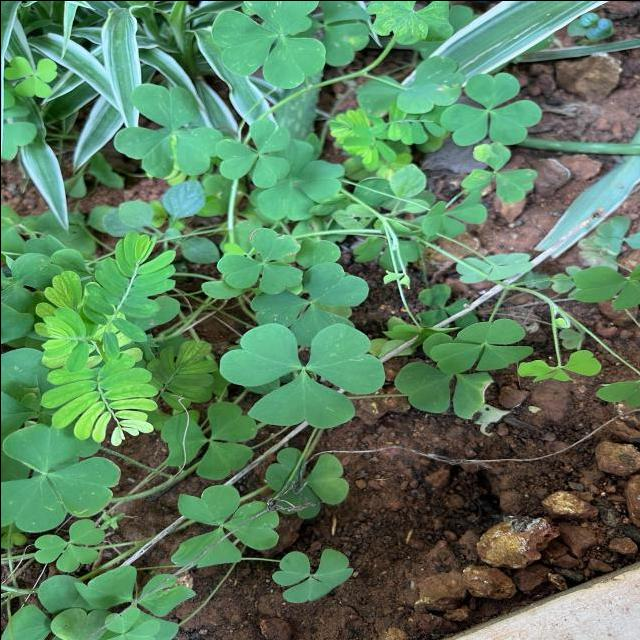Oxalis corniculata: (218, 318, 386, 428), (0, 422, 120, 532), (112, 82, 223, 178), (209, 0, 326, 89), (438, 70, 542, 146), (214, 226, 304, 295), (428, 316, 534, 374), (213, 116, 290, 188), (270, 546, 354, 604), (30, 518, 106, 572), (2, 54, 56, 98)
